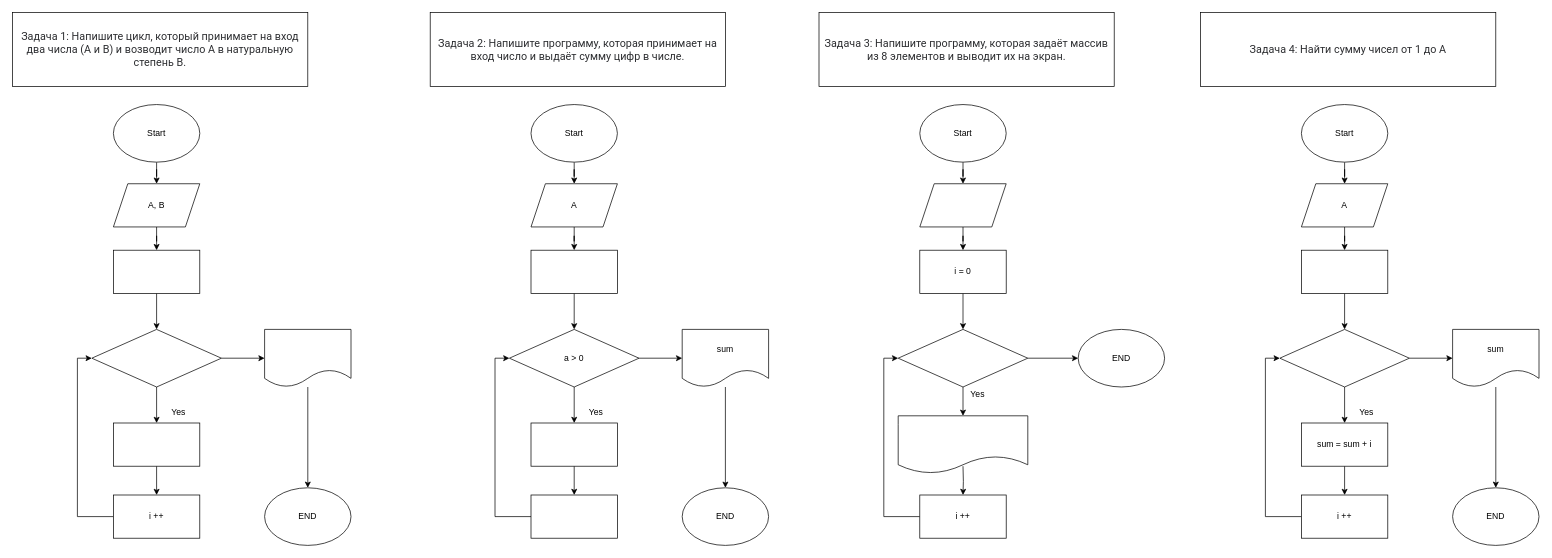
The diagram is 1552 pixels wide and 558 high, and some of its shapes have lost their labels. Each missing label, with the box of its shape:
a = a / 10: (530, 494, 617, 538)
array [ Random( i) ]: (897, 415, 1028, 473)
i < A: (1279, 329, 1409, 387)
i < Length: (897, 329, 1028, 387)
i <= B: (91, 329, 221, 387)
Length = 8: (919, 183, 1006, 227)
result: (264, 329, 351, 387)
result = 1 i = 1: (113, 249, 200, 293)
result = result * A: (113, 422, 200, 466)
sum = 0: (530, 249, 617, 293)
sum = 0 i = 1: (1301, 249, 1388, 293)
sum = sum + a % 10: (530, 422, 617, 466)
